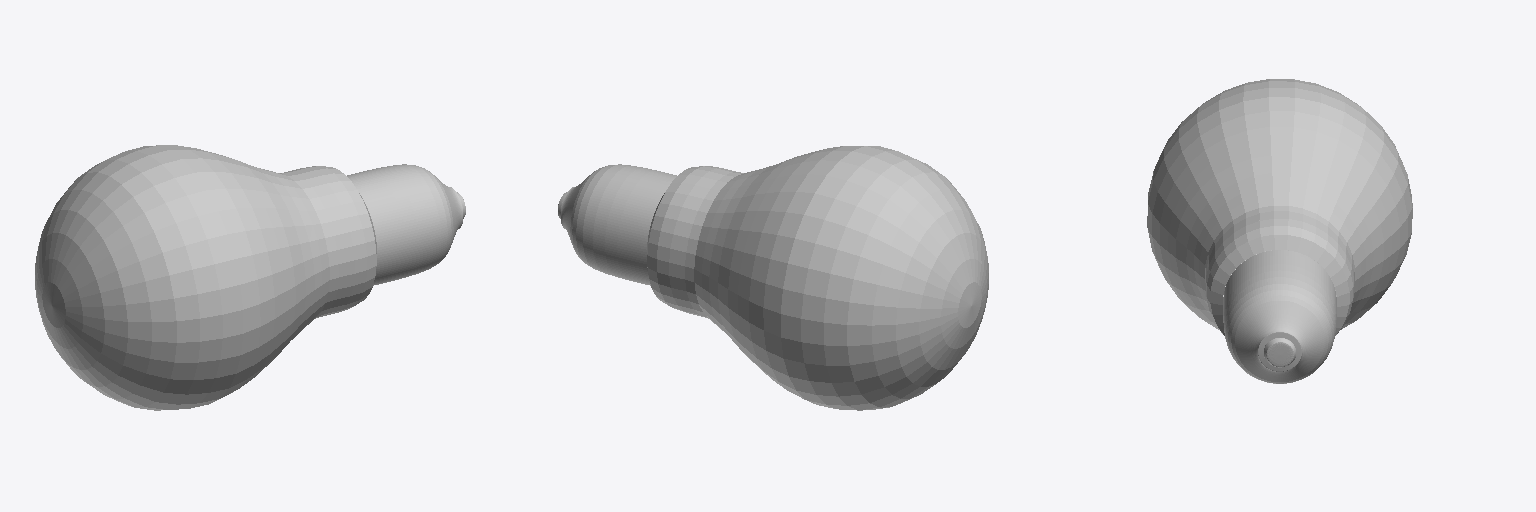
The model's file is Bulb.obj.
The picture shows the model from 3 angles: view 1: azimuth 30°, elevation 25°; view 2: azimuth 150°, elevation 25°; view 3: azimuth 270°, elevation 25°; orthographic projection.
Parts seen in each view (by area): view 1: Sphere.001, Sphere.002; view 2: Sphere.001, Sphere.002; view 3: Sphere.001, Sphere.002.
Part boxes in pixels (bbox=[...]): Sphere.001: bbox=[35, 145, 376, 410]; Sphere.002: bbox=[347, 164, 465, 285]; Sphere.001: bbox=[647, 146, 988, 410]; Sphere.002: bbox=[558, 164, 676, 285]; Sphere.001: bbox=[1147, 79, 1412, 335]; Sphere.002: bbox=[1223, 250, 1336, 383].
Size of the model in its own units: 11.53 by 6.5 by 6.5.